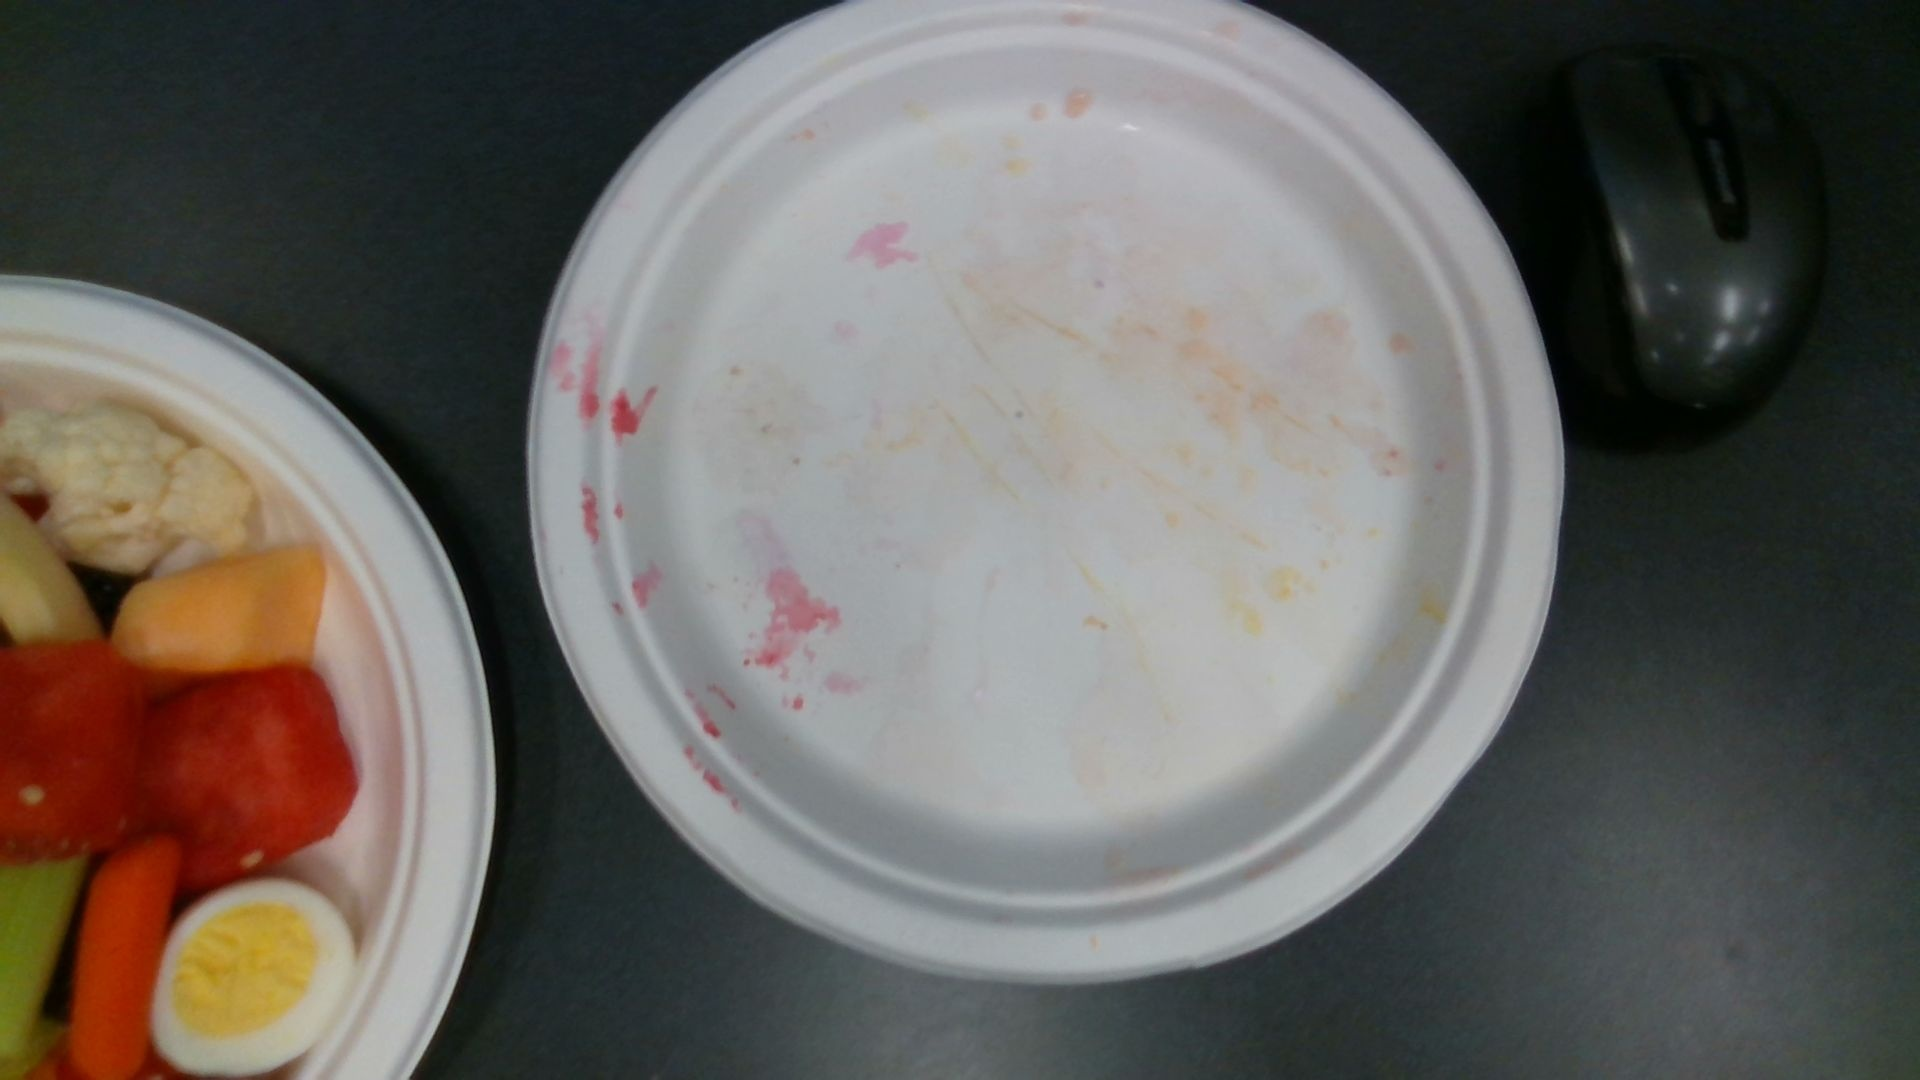cantalope: (112, 546, 327, 691)
carrot: (70, 835, 179, 1080)
cauliflower: (1, 386, 255, 571)
egg: (156, 880, 355, 1075)
melon: (135, 663, 357, 893), (1, 644, 140, 862)
